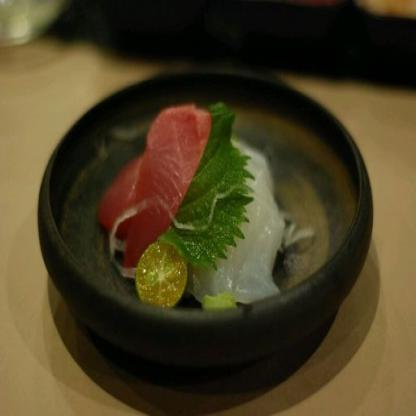tuna: (103, 98, 205, 262)
